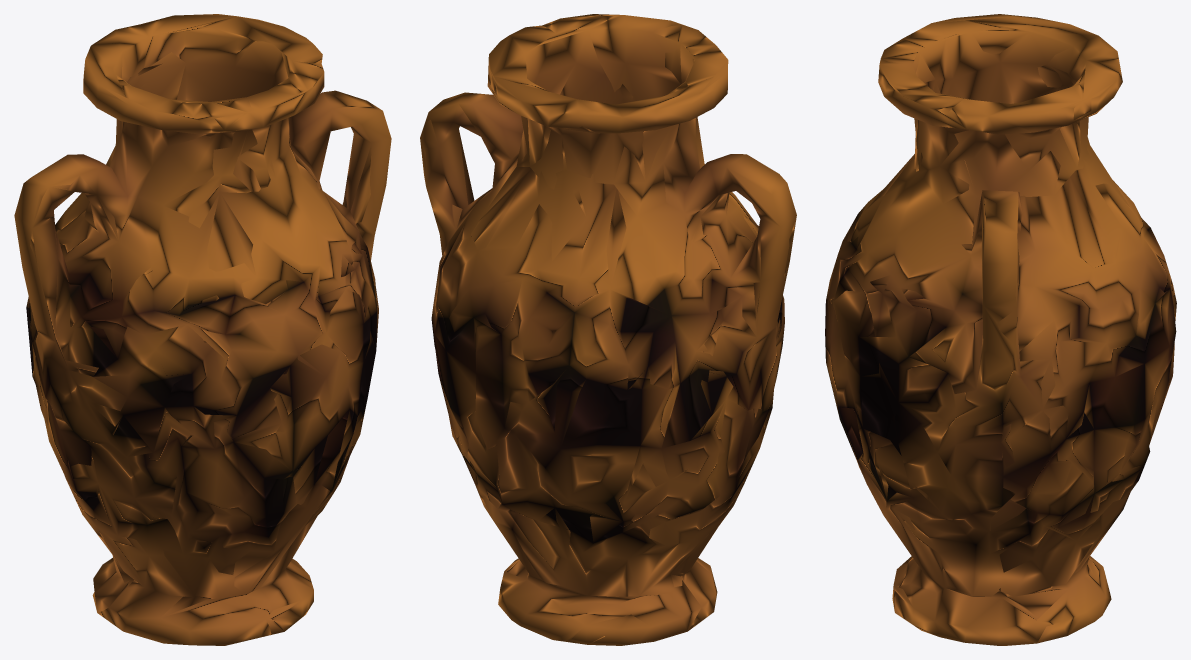
The model's file is gen3d-ancient-vase-lod0.glb.
The picture shows the model from 3 angles, left to right: view 1: azimuth 30°, elevation 25°; view 2: azimuth 150°, elevation 25°; view 3: azimuth 270°, elevation 25°; orthographic projection.
Visible parts, largest first — view 1: part_0; view 2: part_0; view 3: part_0.
Part boxes in pixels (box(x1,y1,x2,y2)): part_0: box(14, 14, 391, 645); part_0: box(420, 14, 796, 645); part_0: box(825, 14, 1176, 645).
Bounding box in the file's own units: 0.7043 × 1 × 0.5957.
